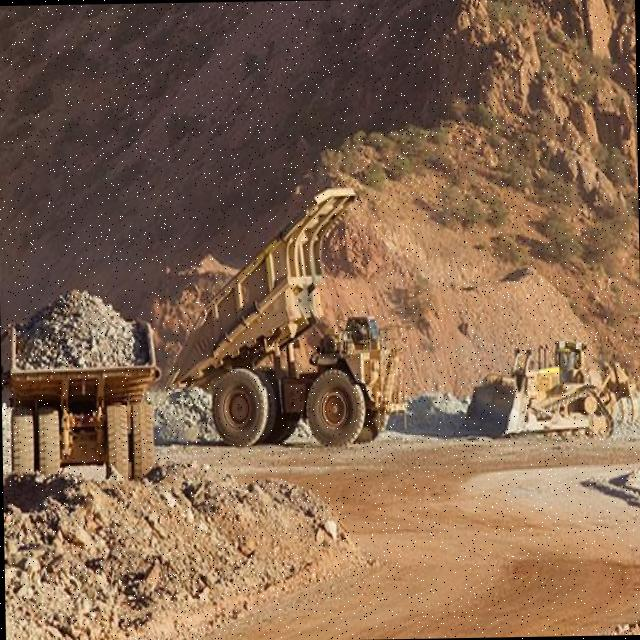Bulldozer: (456, 328, 640, 458)
Dump Truck: (165, 175, 404, 446), (5, 279, 166, 501)
